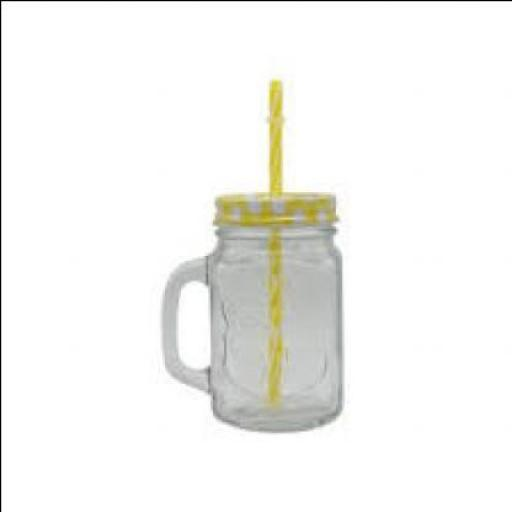glass: (164, 218, 343, 426)
metal: (216, 191, 339, 225)
